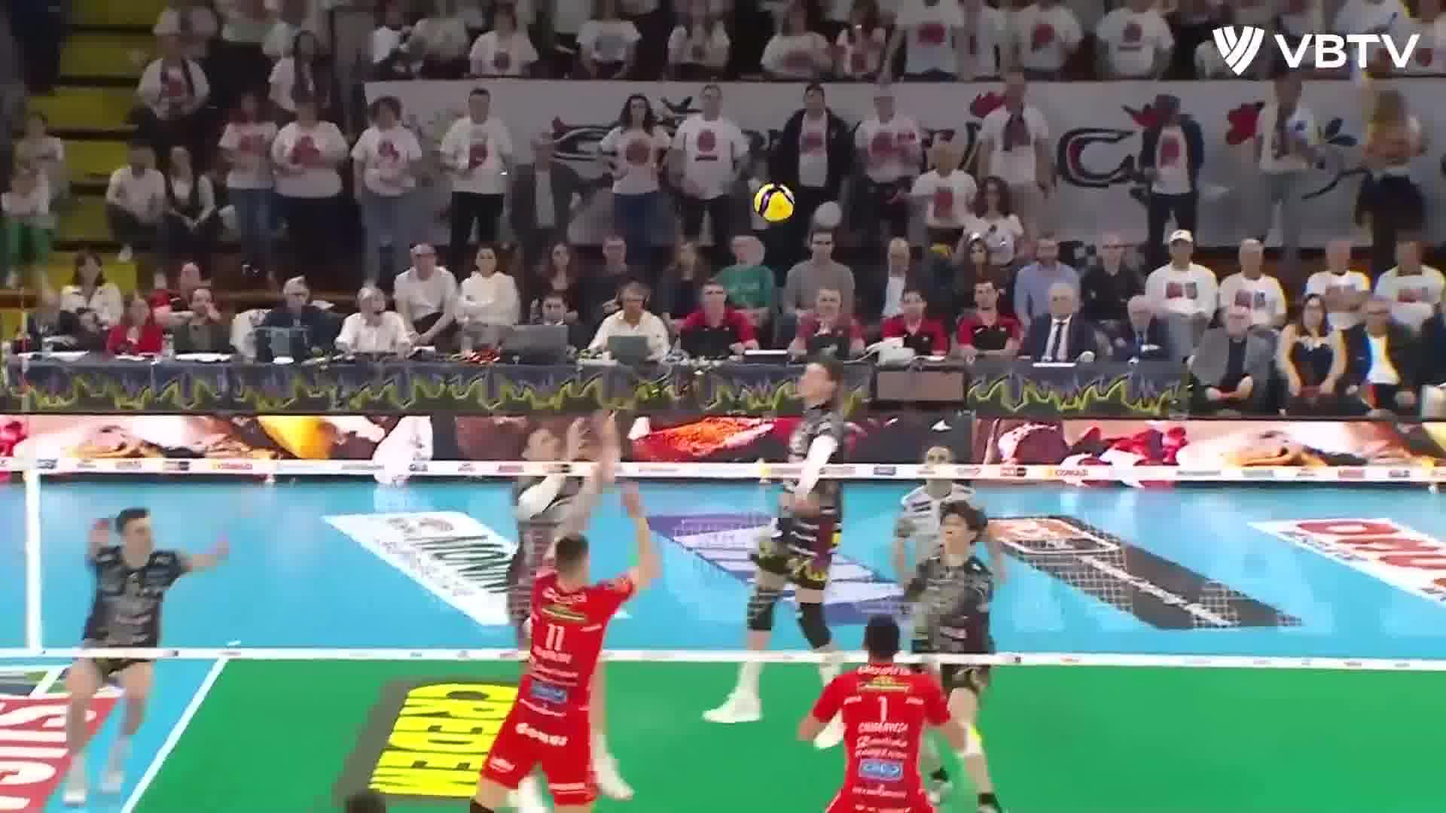balls: (755, 181, 795, 225)
